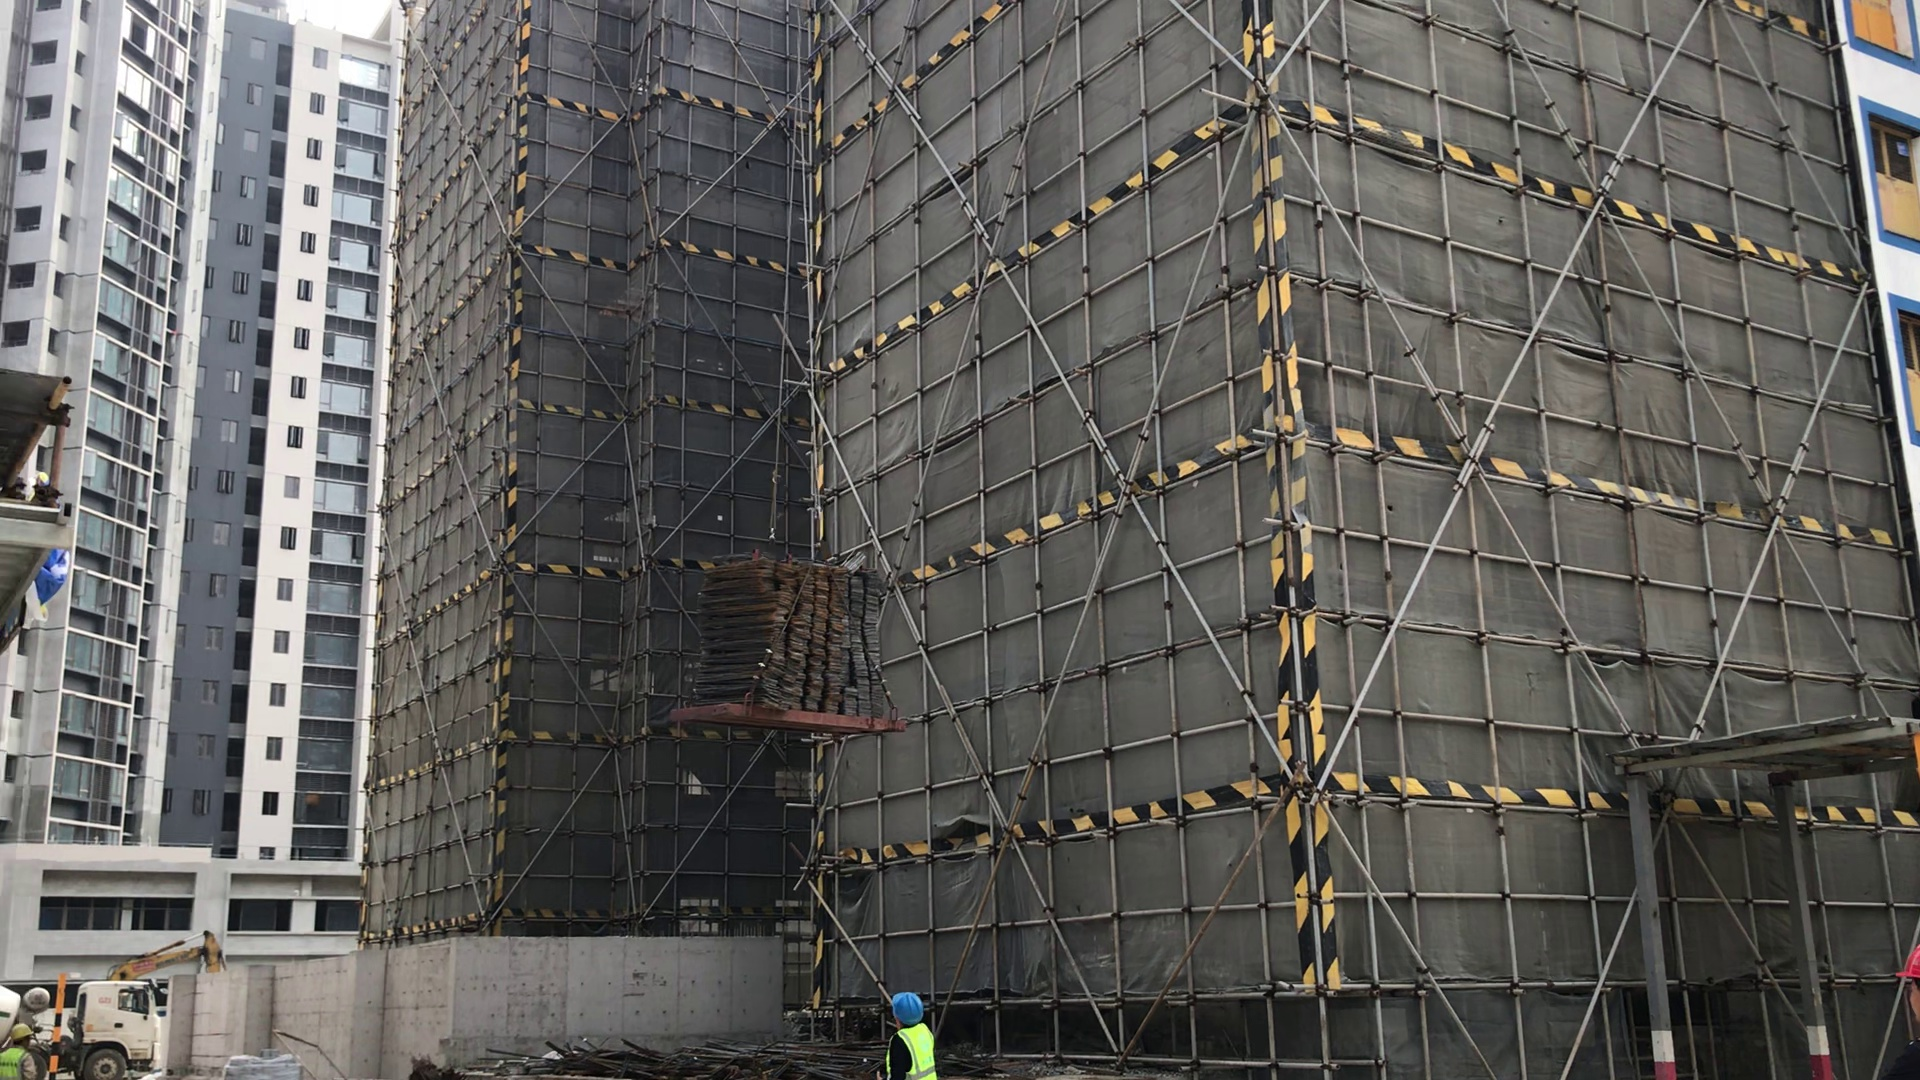helmet: (885, 989, 928, 1029), (12, 1023, 33, 1044)
person: (876, 990, 942, 1080), (3, 1016, 37, 1080)
vest: (890, 1028, 934, 1080), (5, 1050, 28, 1080)
